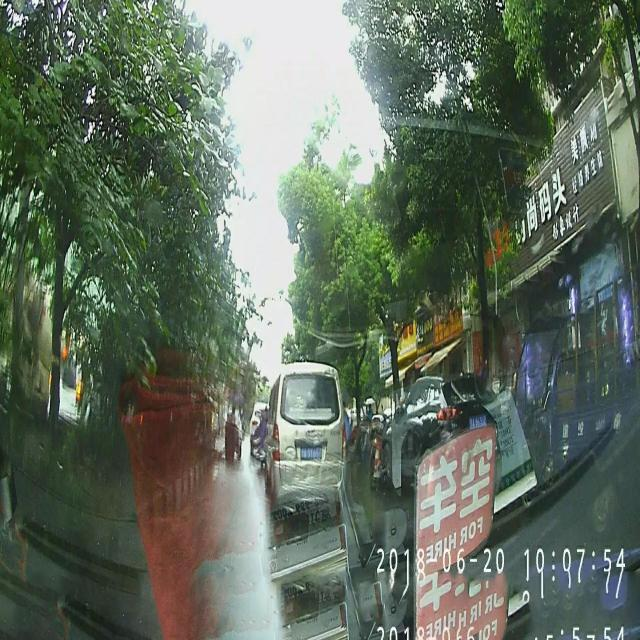car: (380, 374, 497, 486), (264, 360, 348, 510)
